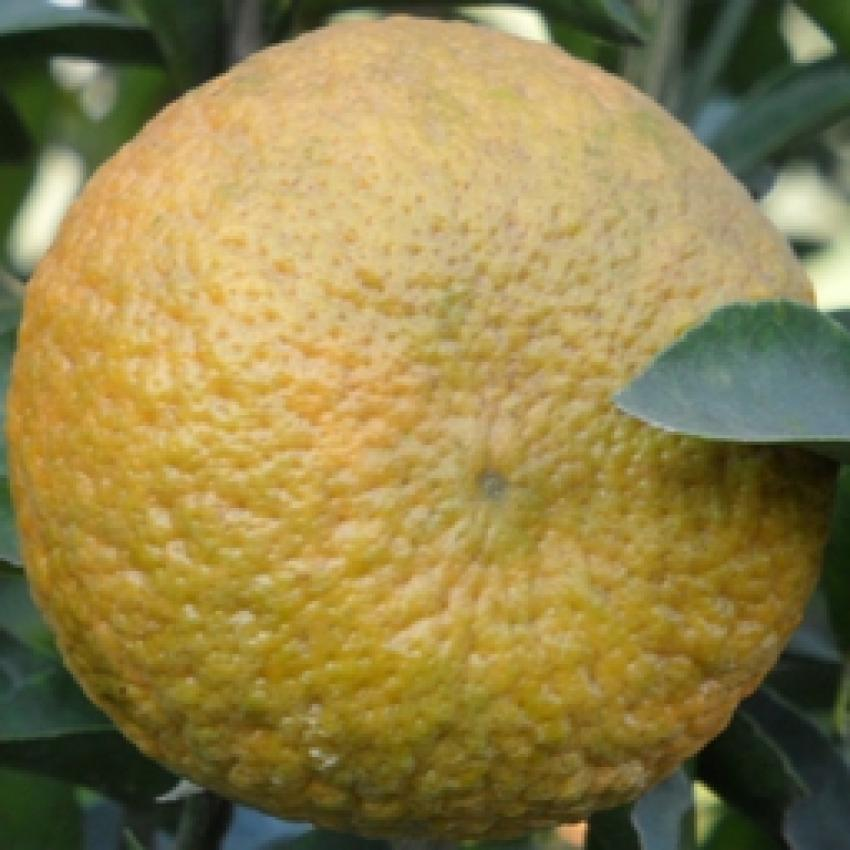Mal estado: (8, 4, 838, 821)
